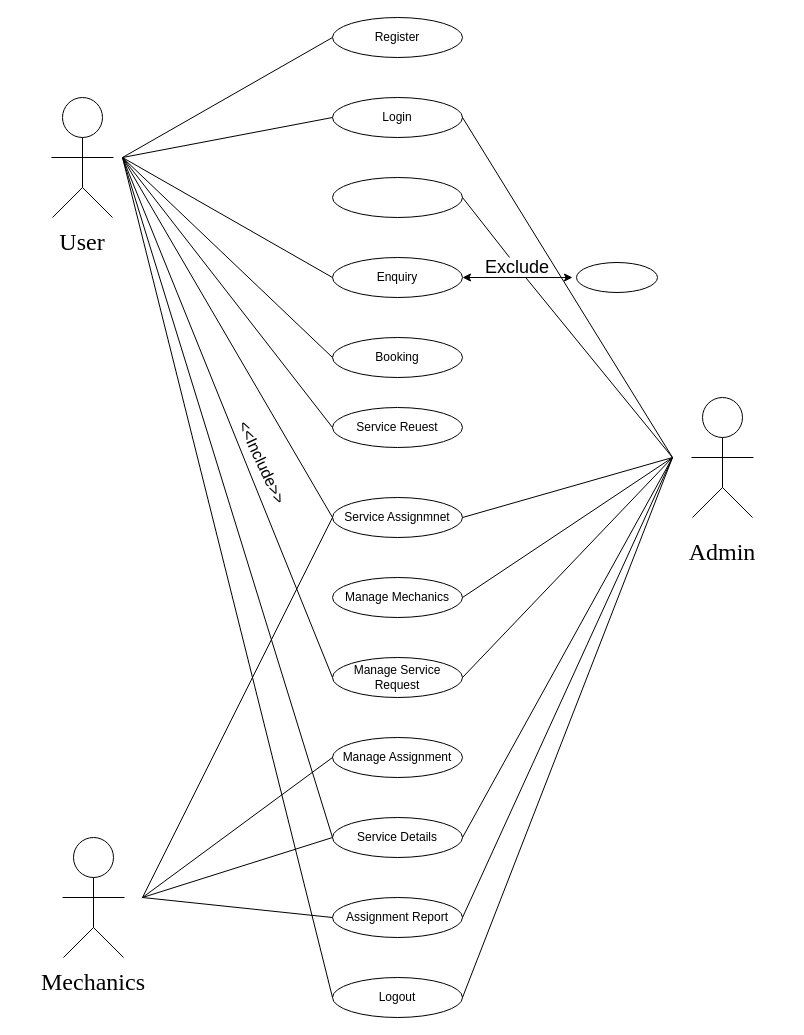
Some shapes in this 804 by 1035 pixel diagram are drawn without their labels. Each missing label, with the box of its shape:
Add Service: (332, 176, 462, 218)
Search: (576, 262, 658, 292)
